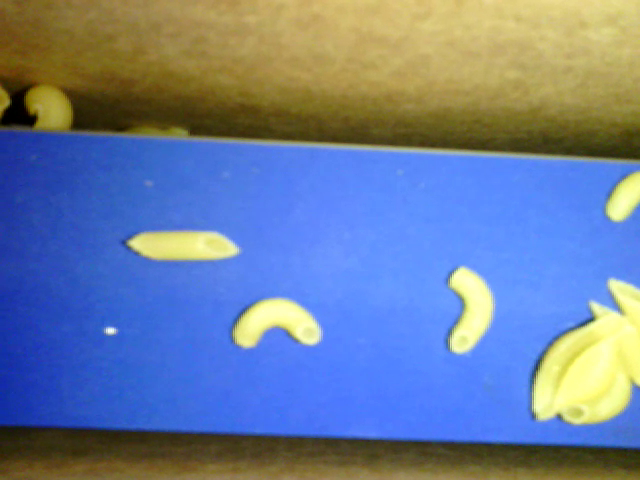elbow: (231, 295, 319, 350), (445, 266, 496, 352), (564, 360, 630, 424), (604, 170, 639, 224)
penne: (586, 298, 636, 380), (125, 230, 240, 261), (608, 275, 639, 336)
shell: (533, 314, 618, 419), (26, 87, 75, 130)
